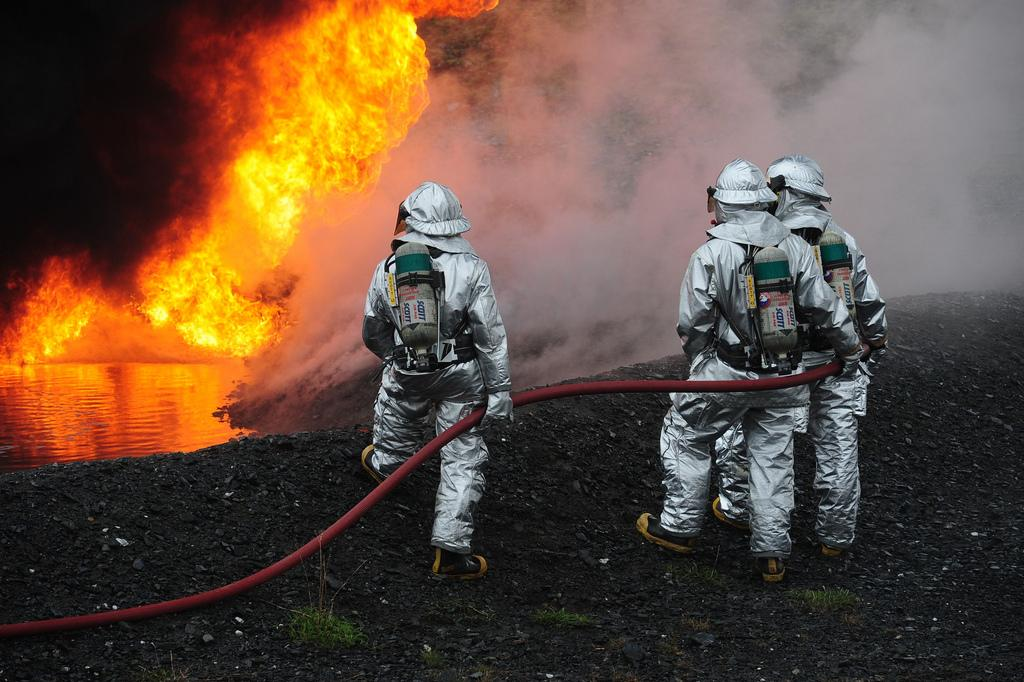fire: (0, 1, 496, 363)
smoke: (252, 0, 1024, 395)
